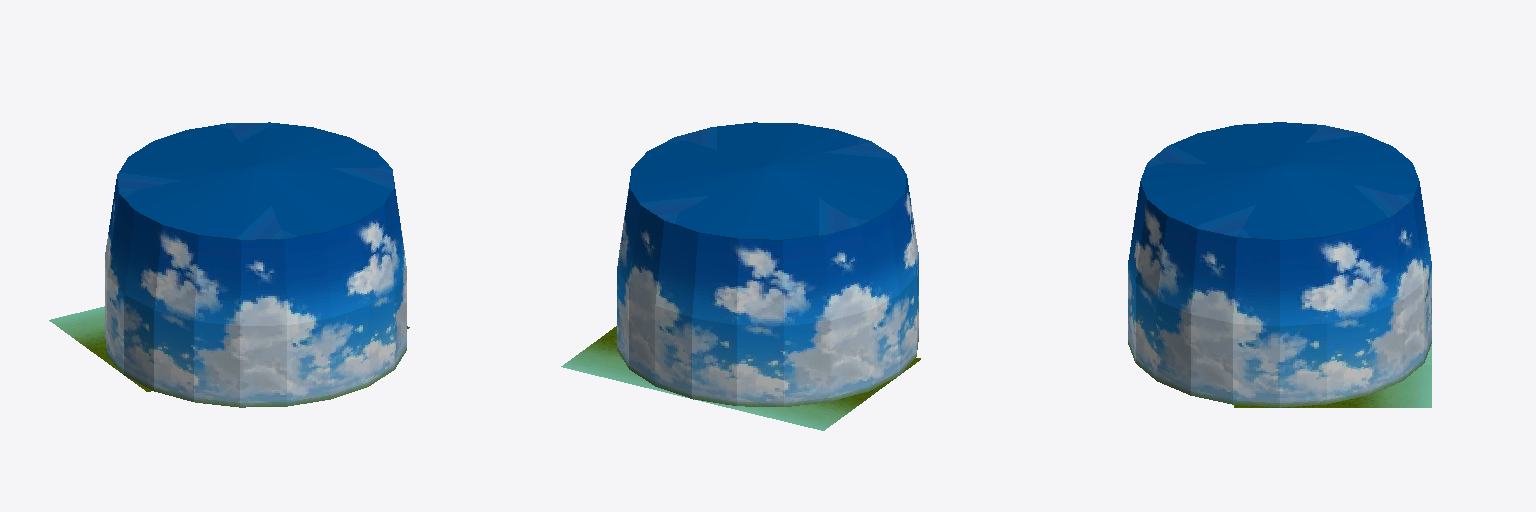
The picture shows the model from 3 angles: view 1: azimuth 30°, elevation 25°; view 2: azimuth 150°, elevation 25°; view 3: azimuth 270°, elevation 25°; orthographic projection.
Parts seen in each view (by area): view 1: Budokai_Tenkaichi; view 2: Budokai_Tenkaichi; view 3: Budokai_Tenkaichi.
Part boxes in pixels (left/top/right/bottom): Budokai_Tenkaichi: left=49, top=122, right=409, bottom=407; Budokai_Tenkaichi: left=561, top=122, right=920, bottom=430; Budokai_Tenkaichi: left=1128, top=122, right=1431, bottom=407.
Bounding box in the file's own units: 500 × 328 × 500.
Materials: 11 (10 with a texture image).